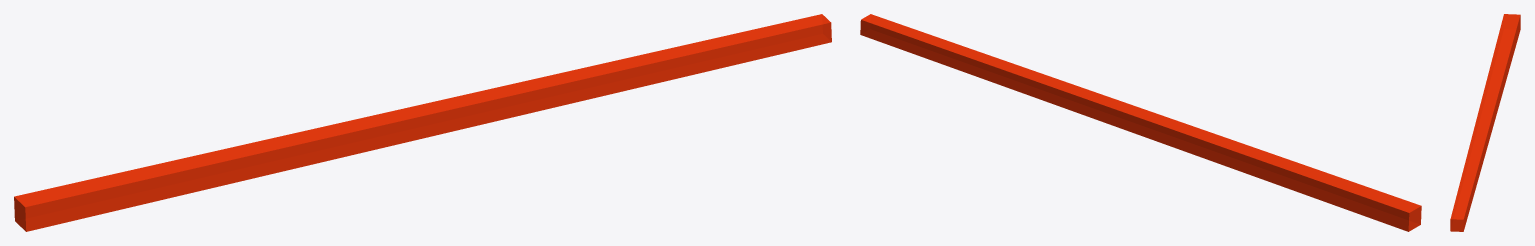
File: Event_421364160_EErechit_18.fbx
3 renders of one model, left to right at view 1: azimuth 30°, elevation 25°; view 2: azimuth 150°, elevation 25°; view 3: azimuth 270°, elevation 25°, orthographic. The views are drawn at different scales.
Visible parts, largest first — view 1: Model; view 2: Model; view 3: Model.
Part boxes in pixels (x1,y1,x2,y2): Model: [14, 14, 831, 231]; Model: [860, 14, 1421, 231]; Model: [1450, 14, 1520, 231].
Size of the model in its own units: 2.92 by 0.2057 by 0.3838.
